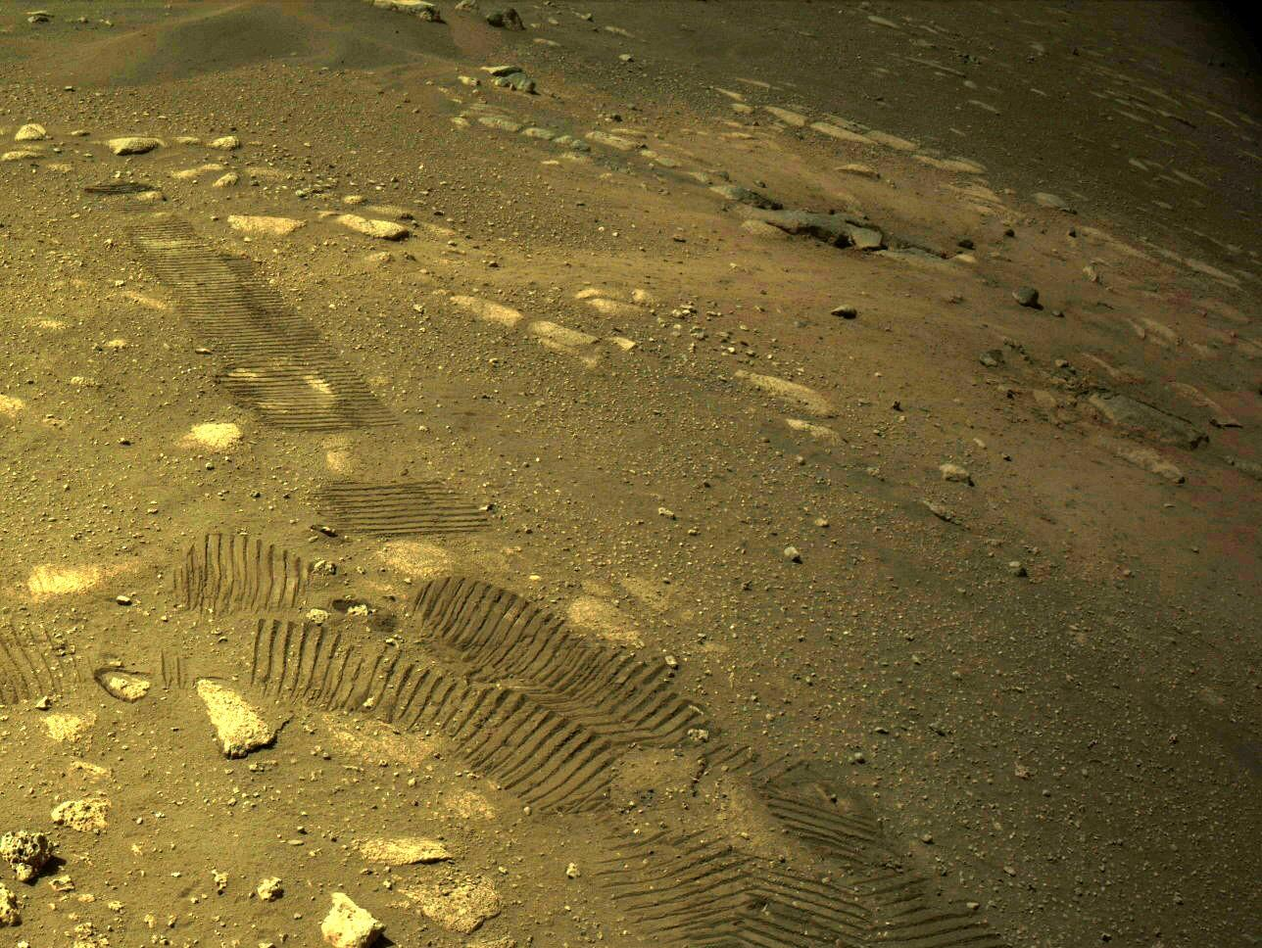bedrock: (437, 5, 1260, 564), (5, 103, 894, 461), (0, 669, 533, 945), (25, 584, 36, 598), (12, 536, 13, 609), (36, 166, 39, 170), (11, 67, 13, 71)
big_rock: (375, 2, 520, 8), (523, 14, 539, 30), (549, 2, 592, 3)
sand: (35, 5, 499, 31), (0, 60, 5, 65), (487, 33, 496, 35)
soil: (1, 71, 1256, 945), (540, 4, 872, 53), (5, 8, 204, 59), (22, 85, 124, 102), (4, 66, 11, 105), (1256, 214, 1258, 248), (13, 67, 18, 74), (1033, 150, 1044, 153), (910, 408, 917, 412)
